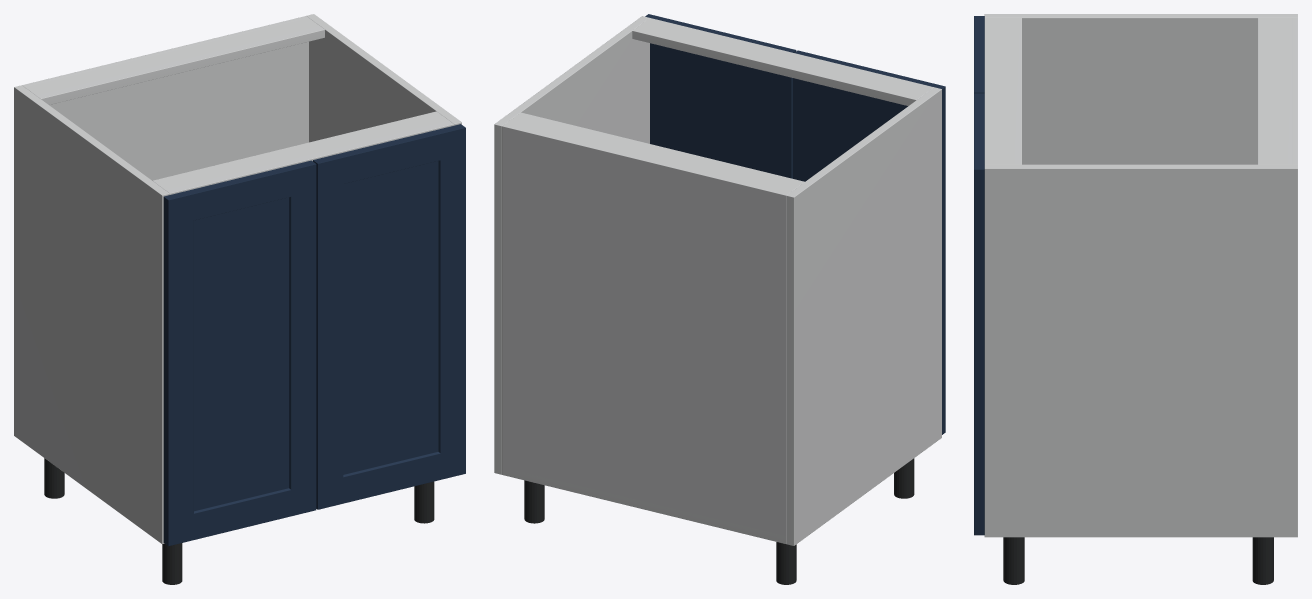
File: oppein-pb-bss-b27fh.glb
3 renders of one model, left to right at view 1: azimuth 30°, elevation 25°; view 2: azimuth 150°, elevation 25°; view 3: azimuth 270°, elevation 25°, orthographic. The views are drawn at different scales.
Parts seen in each view (by area): view 1: Door, Cabinet side, Door.001, Cabinet back, Cabinet side.001, Top support rail, Top support rail.001, Adjustable foot.001, Adjustable foot.003, Adjustable foot; view 2: Cabinet back, Cabinet side, Door.001, Cabinet side.001, Door, Top support rail.001, Top support rail, Cabinet bottom, Adjustable foot, Adjustable foot.002, Adjustable foot.001; view 3: Cabinet side.001, Cabinet side, Top support rail.001, Top support rail, Door.001, Adjustable foot.003, Adjustable foot.002, Cabinet back, Door.
Part boxes in pixels (x1=…): Door: x1=163, y1=160, x2=316, y2=546; Cabinet side: x1=14, y1=85, x2=169, y2=544; Door.001: x1=313, y1=124, x2=465, y2=509; Cabinet back: x1=22, y1=16, x2=308, y2=180; Cabinet side.001: x1=306, y1=14, x2=461, y2=142; Top support rail: x1=25, y1=18, x2=324, y2=104; Top support rail.001: x1=152, y1=111, x2=454, y2=194; Adjustable foot.001: x1=162, y1=543, x2=182, y2=584; Adjustable foot.003: x1=414, y1=481, x2=434, y2=523; Adjustable foot: x1=44, y1=458, x2=64, y2=498; Cabinet back: x1=502, y1=124, x2=788, y2=543; Cabinet side: x1=786, y1=87, x2=941, y2=545; Door.001: x1=645, y1=14, x2=796, y2=178; Cabinet side.001: x1=494, y1=16, x2=649, y2=474; Door: x1=793, y1=50, x2=945, y2=434; Top support rail.001: x1=632, y1=18, x2=933, y2=105; Top support rail: x1=505, y1=112, x2=804, y2=193; Cabinet bottom: x1=502, y1=469, x2=786, y2=543; Adjustable foot: x1=776, y1=542, x2=796, y2=584; Adjustable foot.002: x1=524, y1=480, x2=544, y2=523; Adjustable foot.001: x1=894, y1=458, x2=914, y2=498; Cabinet side.001: x1=984, y1=164, x2=1297, y2=537; Cabinet side: x1=984, y1=14, x2=1297, y2=164; Top support rail.001: x1=984, y1=18, x2=1021, y2=164; Top support rail: x1=1258, y1=18, x2=1291, y2=164; Door.001: x1=974, y1=93, x2=984, y2=535; Adjustable foot.003: x1=1003, y1=537, x2=1024, y2=584; Adjustable foot.002: x1=1252, y1=537, x2=1273, y2=584; Cabinet back: x1=1292, y1=18, x2=1297, y2=164; Door: x1=974, y1=16, x2=984, y2=92.
Bounding box in the file's own units: 0.6858 × 0.8763 × 0.6064.
